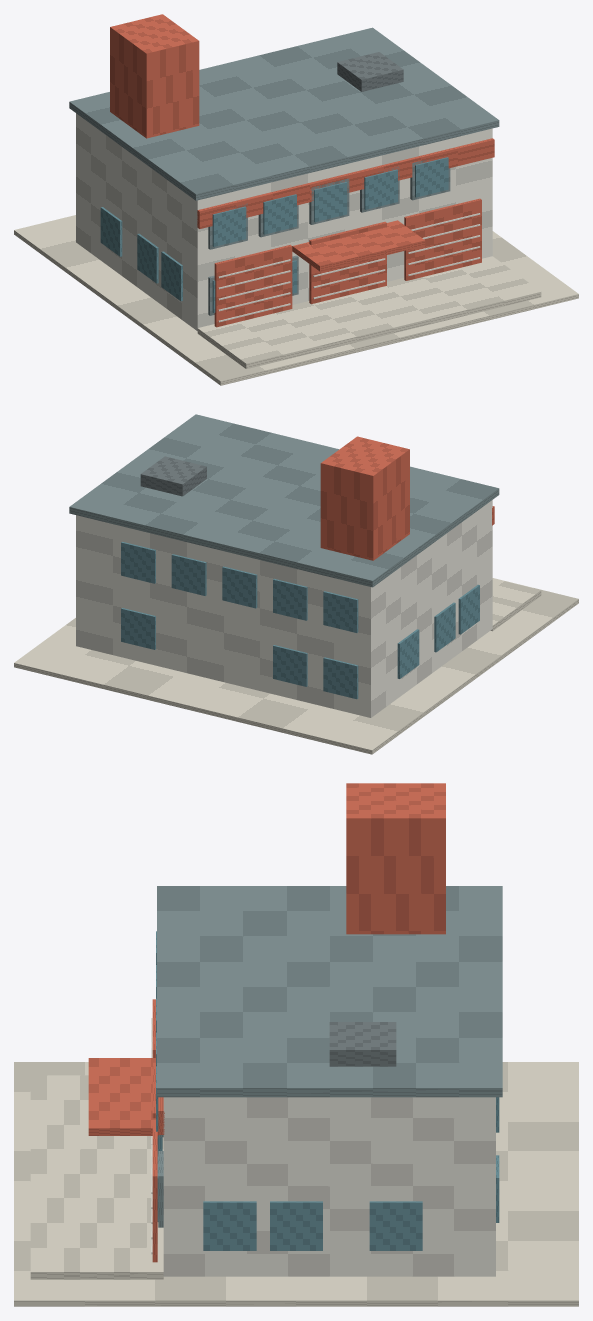
Rendered from fire.glb.
3 views of the same model, one above another, from view 1: azimuth 30°, elevation 25°; view 2: azimuth 150°, elevation 25°; view 3: azimuth 270°, elevation 25° (orthographic). The views are drawn at different scales.
Parts seen in each view (by area): view 1: Flat roof coping, Public building, Entry plaza, Service forecourt, Fire garage door (×3), Hose drying tower, Window glass (×5), Facade color band, Entry canopy, Side window (×3), Air conditioning; view 2: Public building, Flat roof coping, Service forecourt, Rear window (×8), Hose drying tower, Side window (×3), Air conditioning, Entry plaza; view 3: Flat roof coping, Public building, Service forecourt, Entry plaza, Hose drying tower, Side window (×3), Entry canopy, Air conditioning, Fire garage door.
Part boxes in pixels (box(x1,y1,x2,y2)): Flat roof coping: box(69, 27, 499, 200); Public building: box(76, 113, 492, 330); Entry plaza: box(197, 256, 541, 368); Service forecourt: box(14, 215, 578, 385); Fire garage door (×3): box(214, 198, 481, 327); Hose drying tower: box(110, 14, 199, 138); Window glass (×5): box(212, 157, 448, 246); Facade color band: box(197, 138, 494, 228); Entry canopy: box(292, 220, 425, 271); Side window (×3): box(100, 207, 182, 301); Air conditioning: box(337, 52, 403, 91); Public building: box(76, 500, 492, 717); Flat roof coping: box(69, 414, 499, 587); Service forecourt: box(14, 578, 578, 754); Rear window (×8): box(121, 541, 358, 699); Hose drying tower: box(320, 436, 409, 560); Side window (×3): box(397, 584, 479, 678); Air conditioning: box(140, 456, 206, 496); Entry plaza: box(490, 578, 541, 631); Flat roof coping: box(157, 886, 502, 1097); Public building: box(163, 1097, 495, 1276); Service forecourt: box(14, 1062, 578, 1306); Entry plaza: box(30, 1075, 163, 1279); Hose drying tower: box(346, 783, 445, 934); Side window (×3): box(203, 1201, 422, 1250); Entry canopy: box(88, 1058, 158, 1135); Air conditioning: box(329, 1022, 396, 1066); Fire garage door: box(152, 1126, 157, 1262).
Bounding box in the file's own units: 17 × 10.5 × 17.
6 materials, 6 textured.
